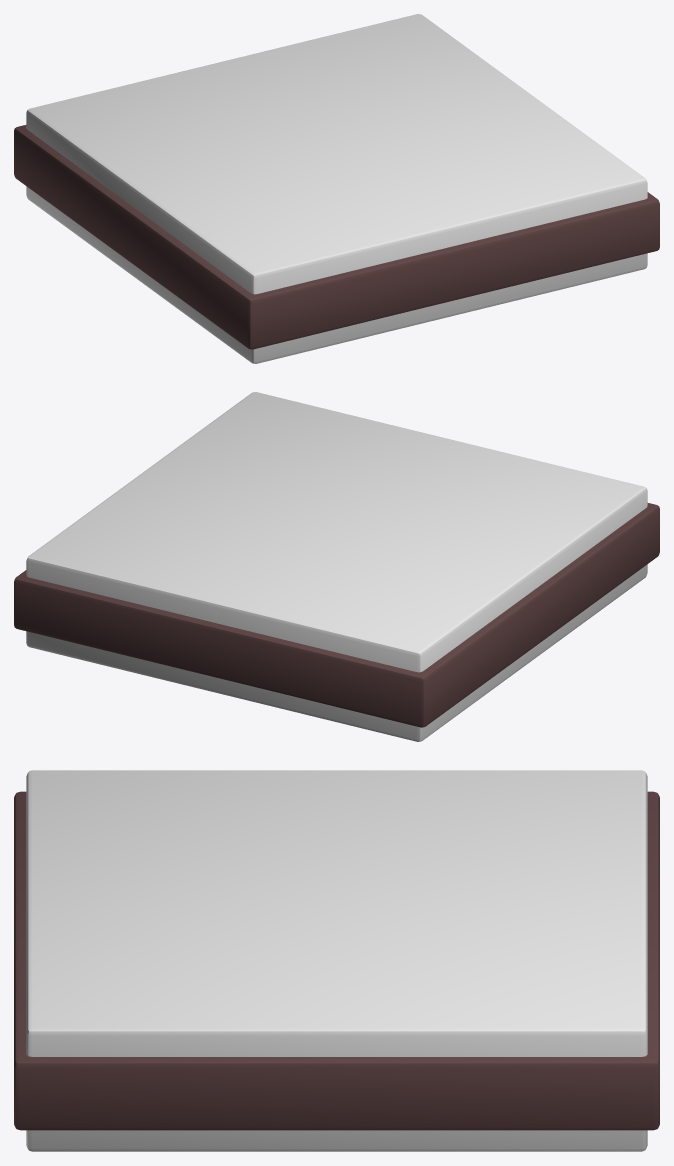
Rendered from Mesh_Plataforma 1.fbx.
3 renders of one model, top to bottom at view 1: azimuth 30°, elevation 25°; view 2: azimuth 150°, elevation 25°; view 3: azimuth 270°, elevation 25°, orthographic. The views are drawn at different scales.
Parts seen in each view (by area): view 1: Plataforma_No_Movible; view 2: Plataforma_No_Movible; view 3: Plataforma_No_Movible.
Part boxes in pixels (x1,y1,x2,y2): Plataforma_No_Movible: [14, 14, 659, 363]; Plataforma_No_Movible: [14, 392, 659, 741]; Plataforma_No_Movible: [14, 770, 659, 1151].
Size of the model in its own units: 1040 by 220 by 1040.
